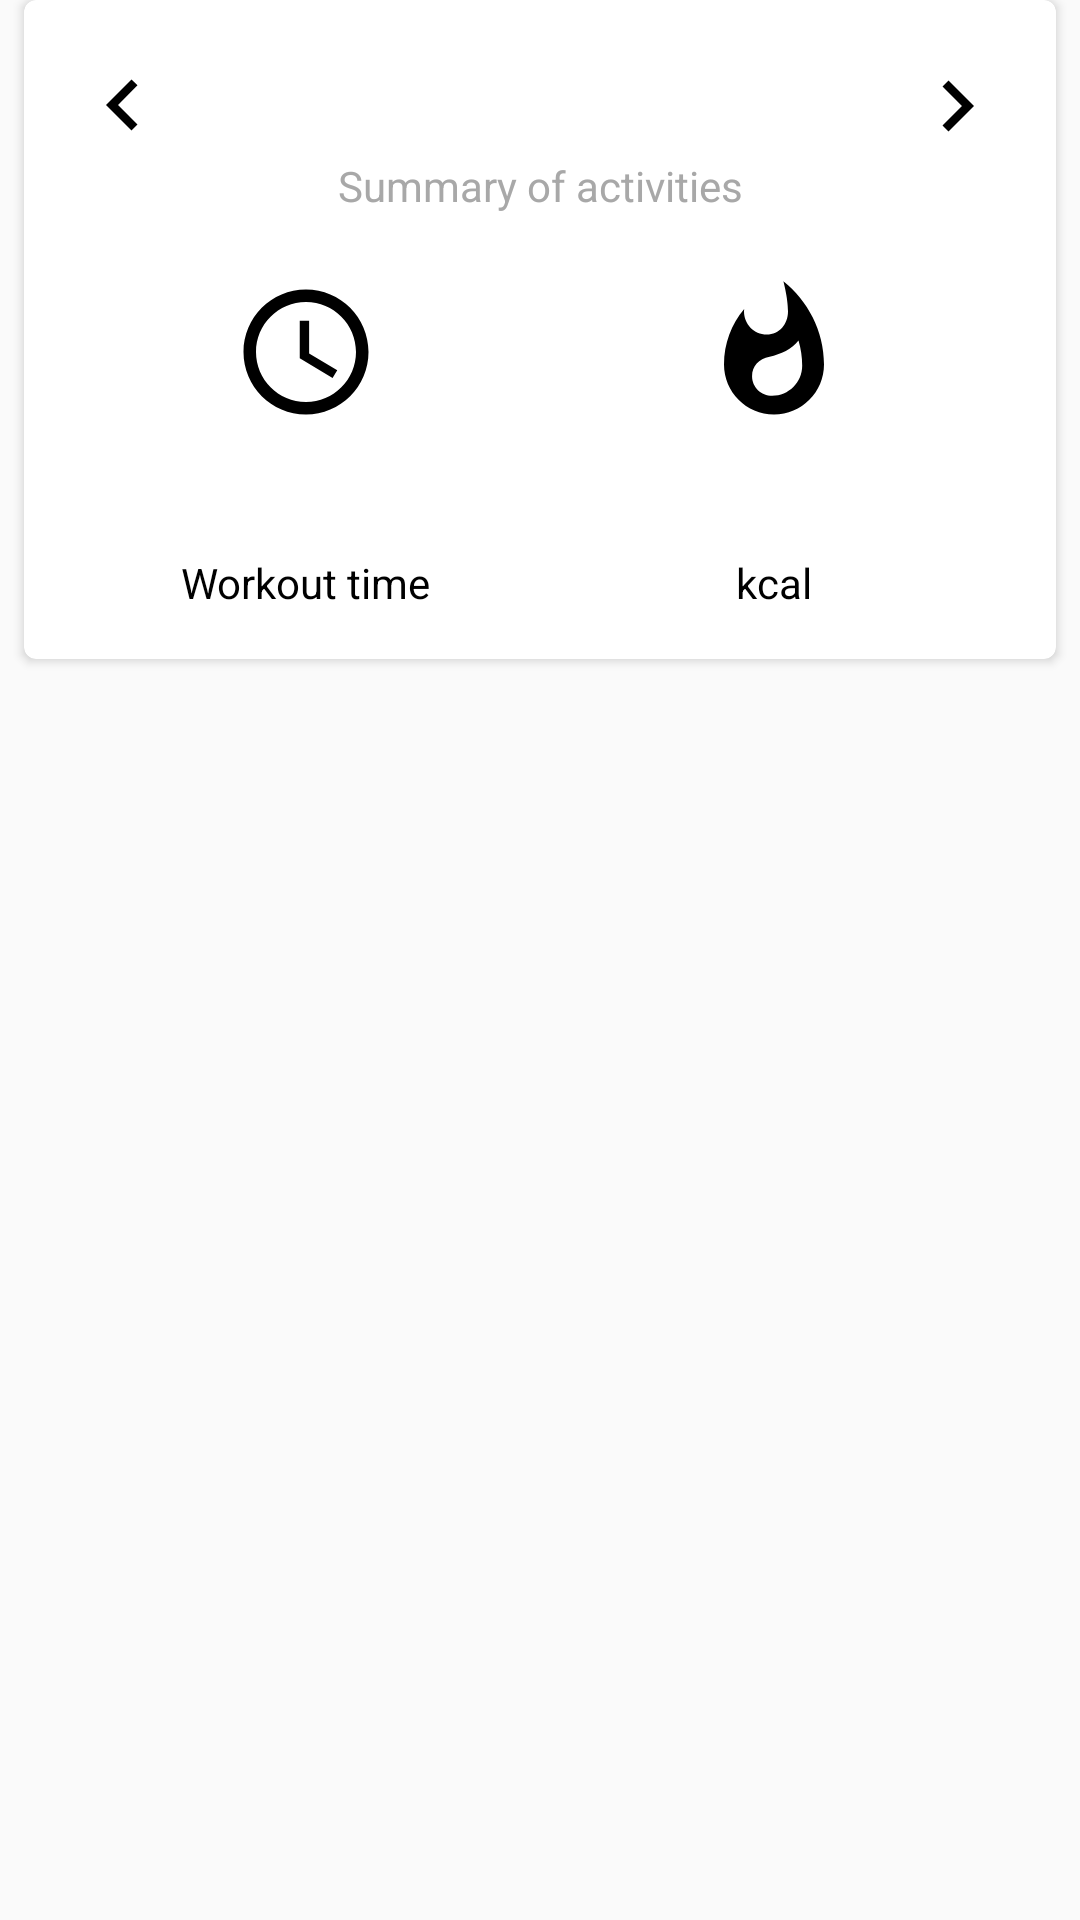

Icons on this 1080 x 1920 Android screen, each with the point to tap as point (x, y):
chevron left: point (122, 105)
chevron right: point (958, 106)
clock: point (306, 352)
fire: point (774, 348)
